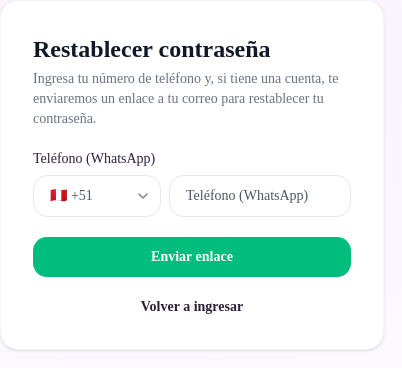
it: submits the phone and shows the generic success message
Type "988888888" into the field with placeholder "Teléfono (WhatsApp)".
click(260, 196); type("988888888")  # box [169,175,351,217]
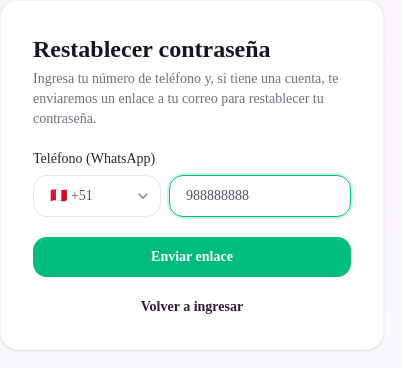
Click the button "Enviar enlace".
click(192, 257)  # box [33,237,351,277]
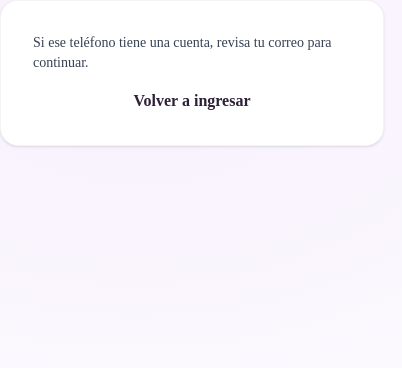
Check: the text "Si ese teléfono tiene una cuenta, revisa tu correo para continuar." is shown, box [33,33,351,73]
